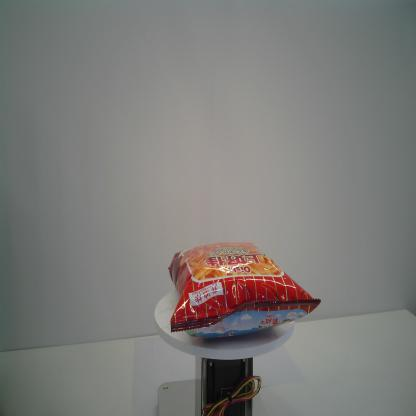Puffed Food: (168, 241, 321, 340)
